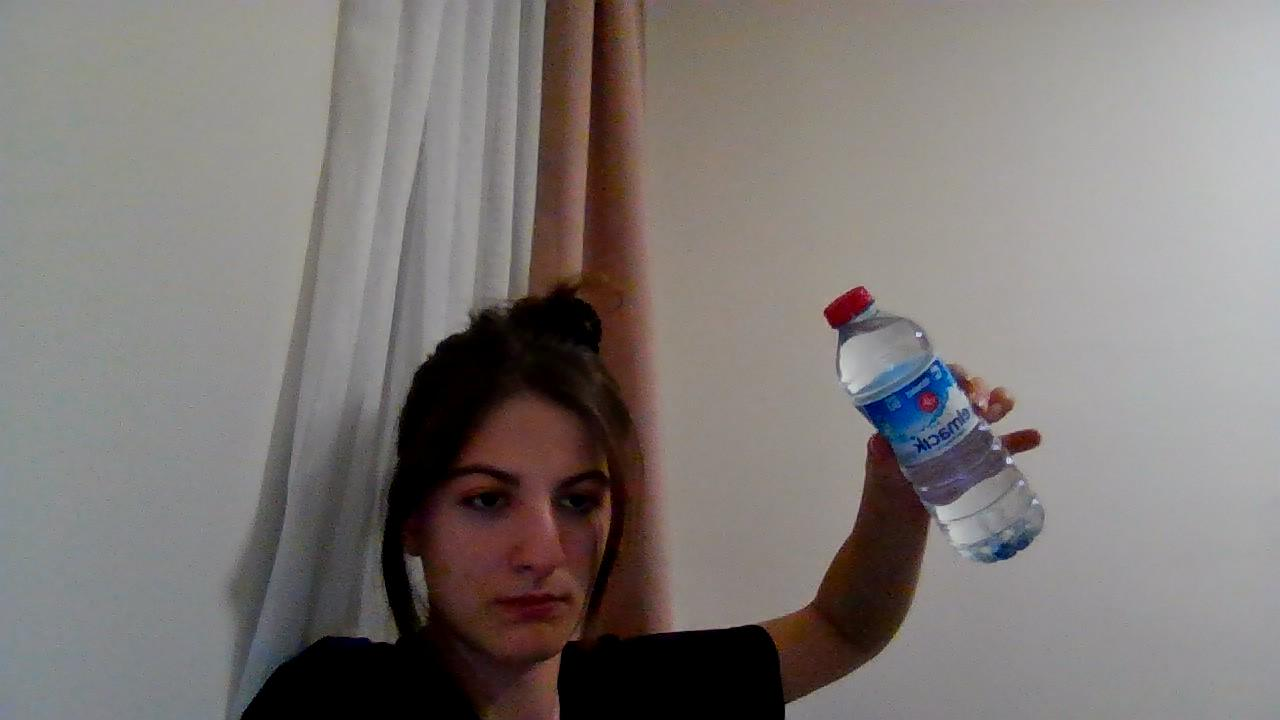bottle: (820, 280, 1046, 566)
